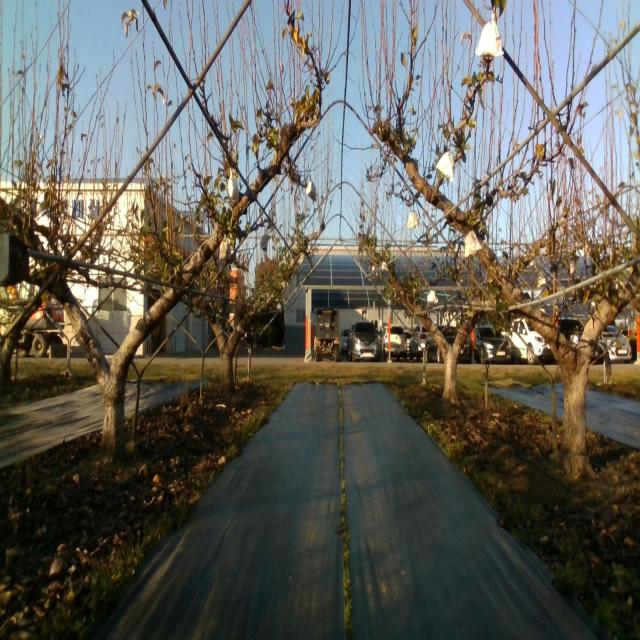pearbags: (475, 13, 504, 57), (436, 150, 454, 183), (464, 230, 482, 257), (228, 166, 238, 201), (219, 234, 231, 260), (406, 207, 419, 228)
